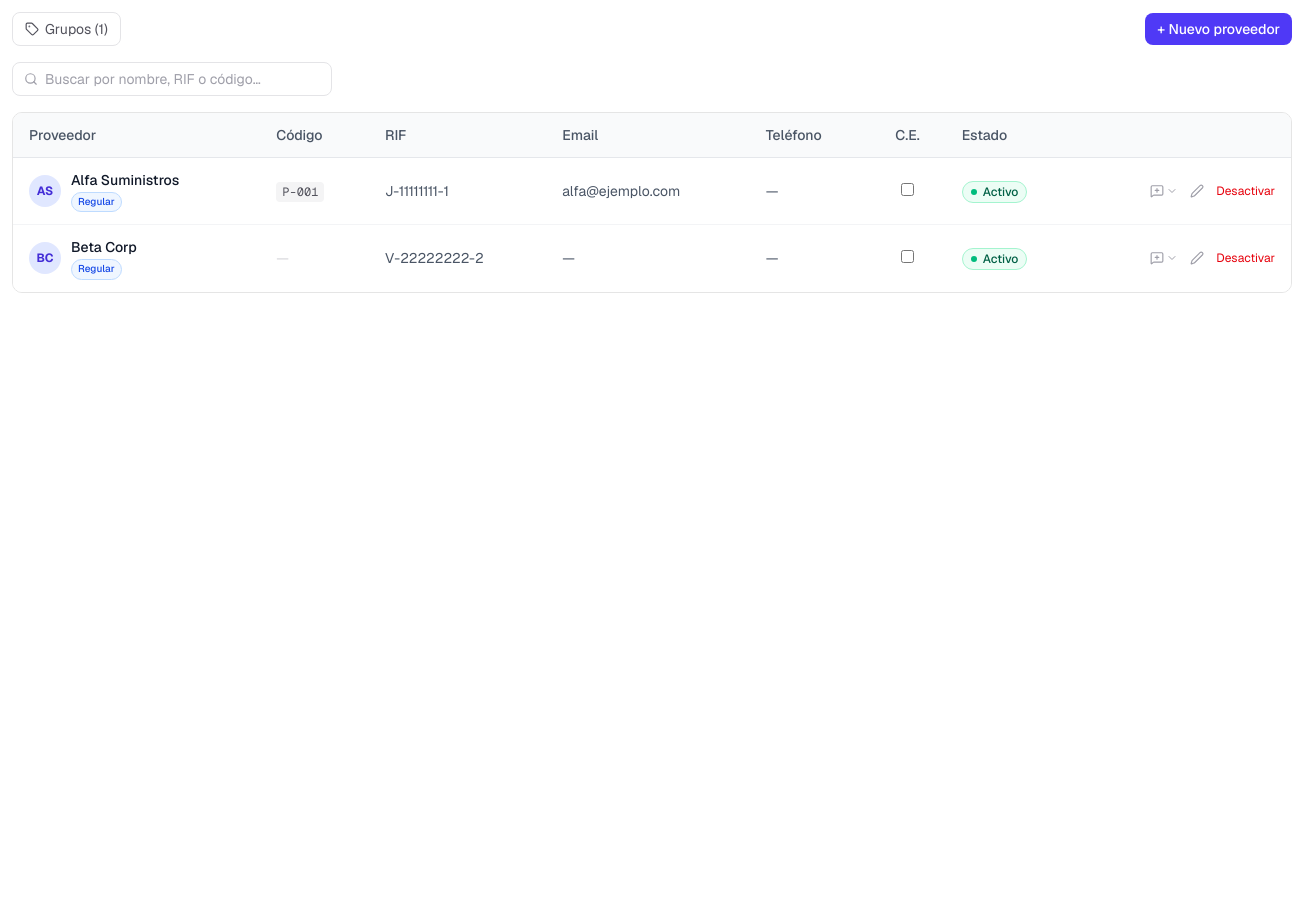
VendorList — smoke del refactor RHF (P2) › createVendorAction success → el vendor nuevo aparece en la lista y el form se cierra
Click the button "+ Nuevo proveedor".
click(1219, 29)  # box x1=1145 y1=13 x2=1292 y2=45
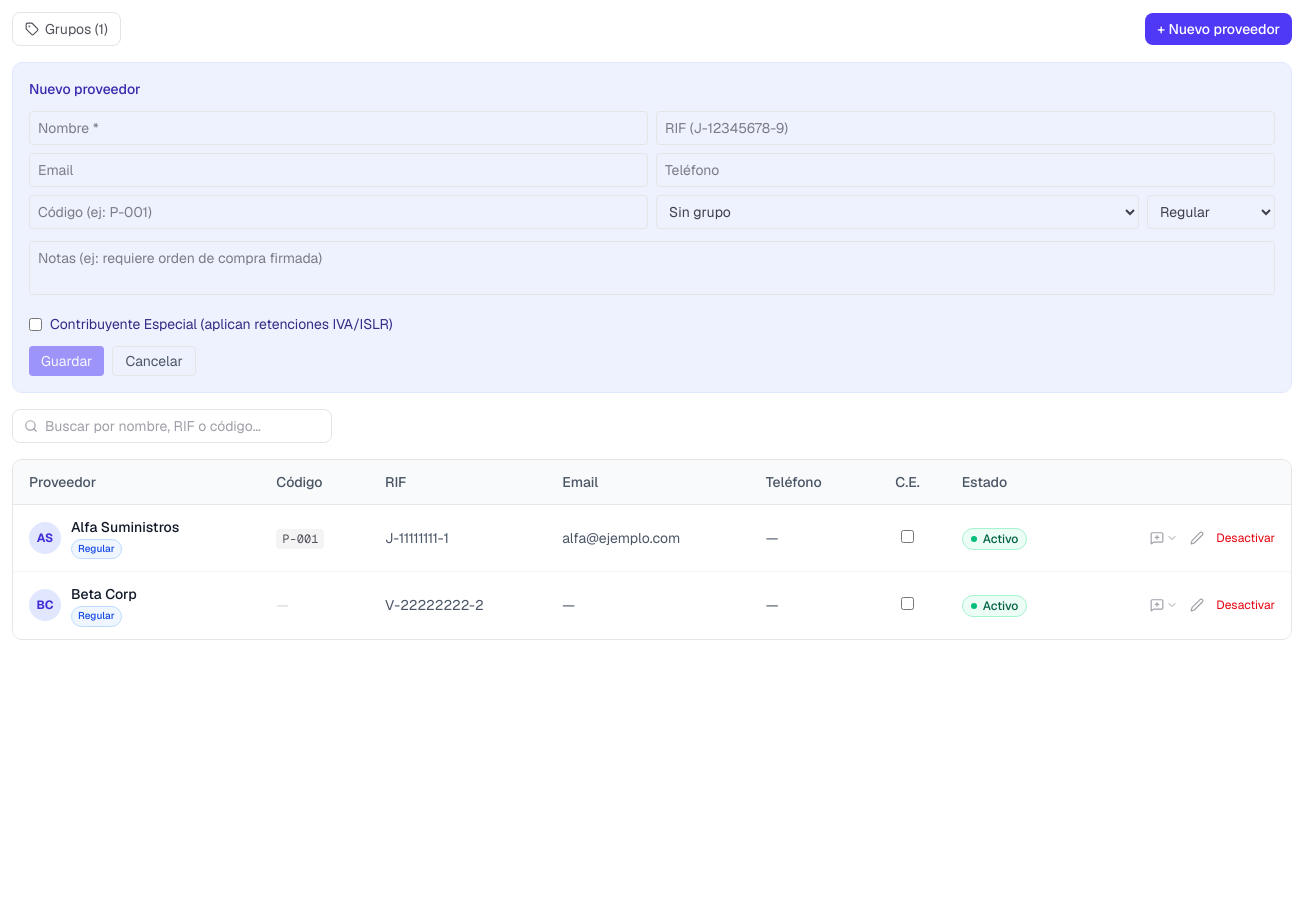
Type "Zeta Importaciones" into the field with placeholder "Nombre *".
click(338, 128); type("Zeta Importaciones")  # box x1=29 y1=111 x2=648 y2=145
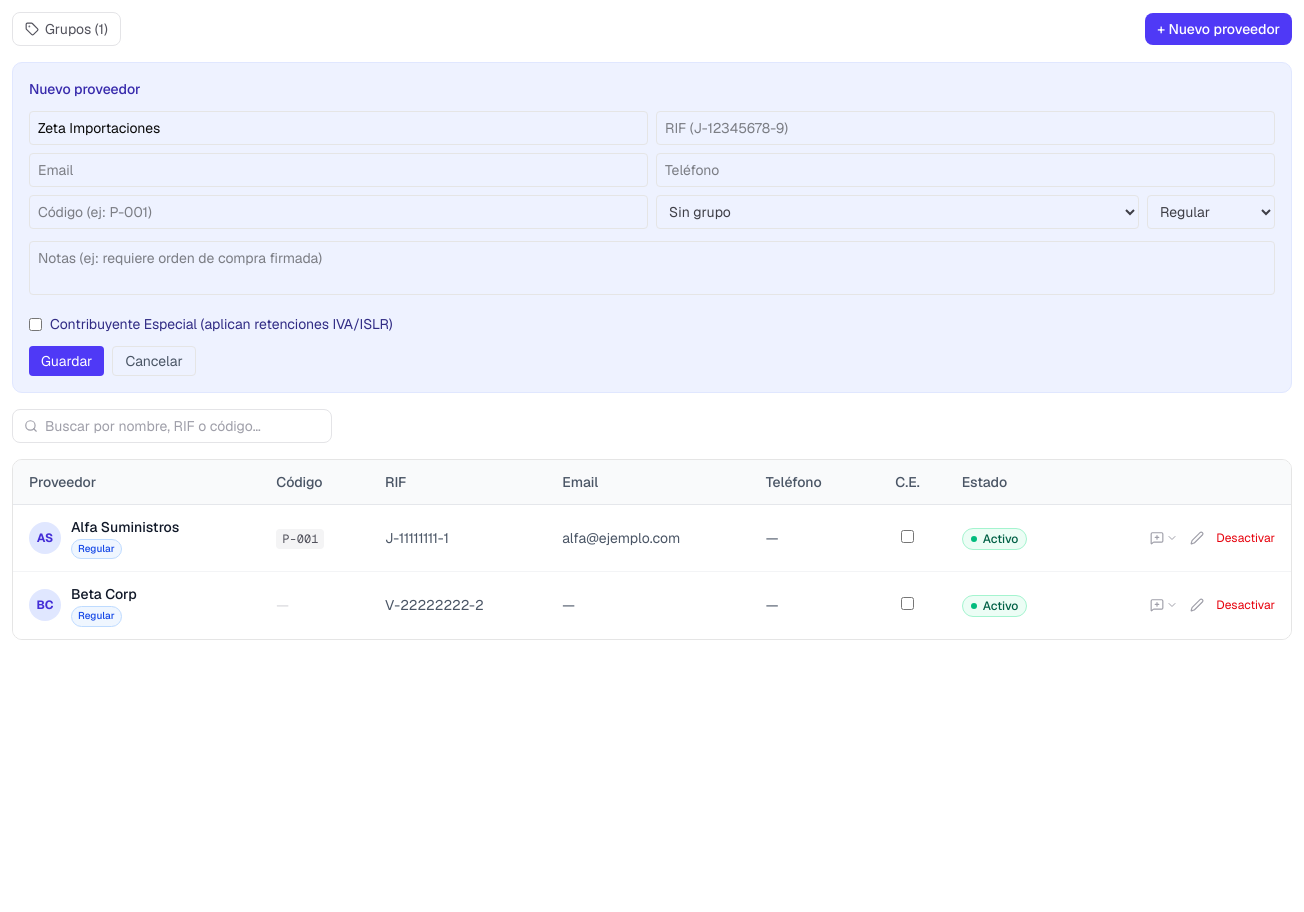
Click the button "Guardar".
click(67, 361)  # box x1=29 y1=346 x2=104 y2=376
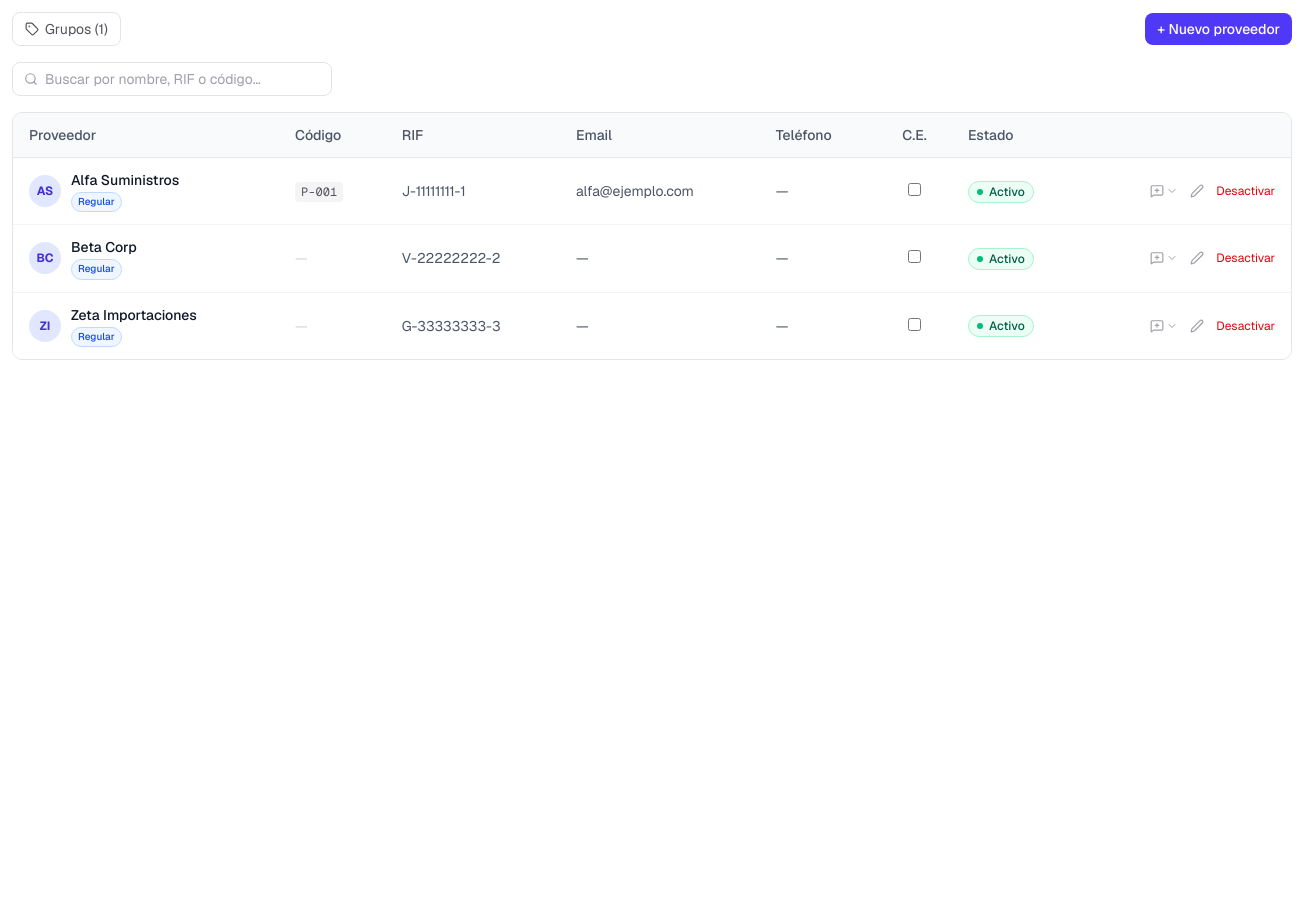
Expected: the field with placeholder "Nombre *" is not shown
Expected: the text "Zeta Importaciones" is shown, x1=71 y1=305 x2=197 y2=325
